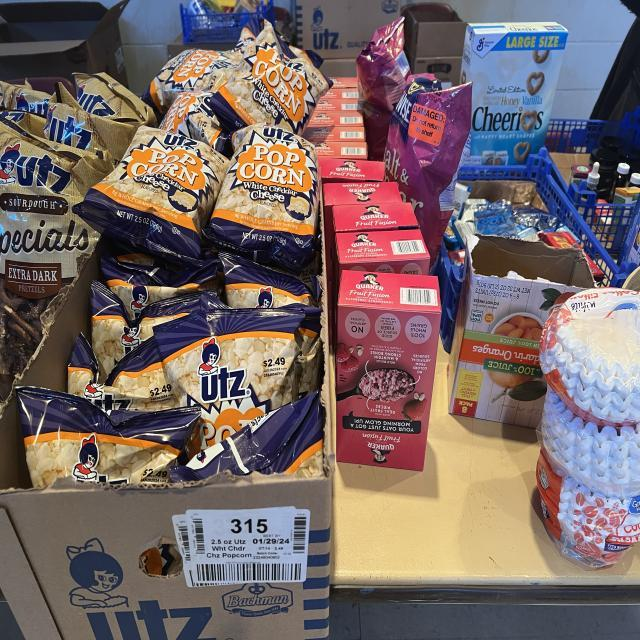Snack: (154, 308, 322, 447), (74, 127, 229, 265), (16, 387, 200, 487), (206, 125, 320, 273), (384, 78, 472, 265), (209, 23, 330, 135), (356, 17, 410, 160), (142, 48, 242, 115), (160, 92, 232, 157)
